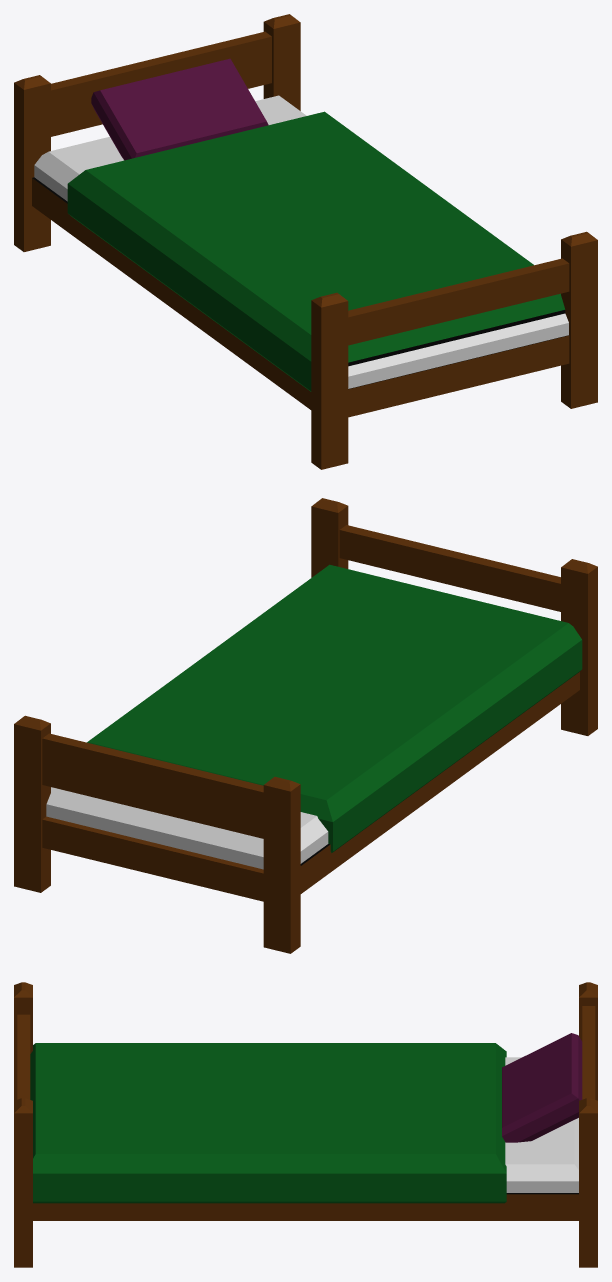
Rendered from bed.fbx.
The picture shows the model from 3 angles, top to bottom: view 1: azimuth 30°, elevation 25°; view 2: azimuth 150°, elevation 25°; view 3: azimuth 270°, elevation 25°; orthographic projection. The views are drawn at different scales.
Visible parts, largest first — view 1: polySurface28; view 2: polySurface28; view 3: polySurface28.
Boxes of the visible parts, x1,y1,x2,y2 form: polySurface28: [14, 14, 597, 469]; polySurface28: [14, 498, 597, 953]; polySurface28: [14, 982, 597, 1267].
Size of the model in its own units: 126 by 73.02 by 243.
